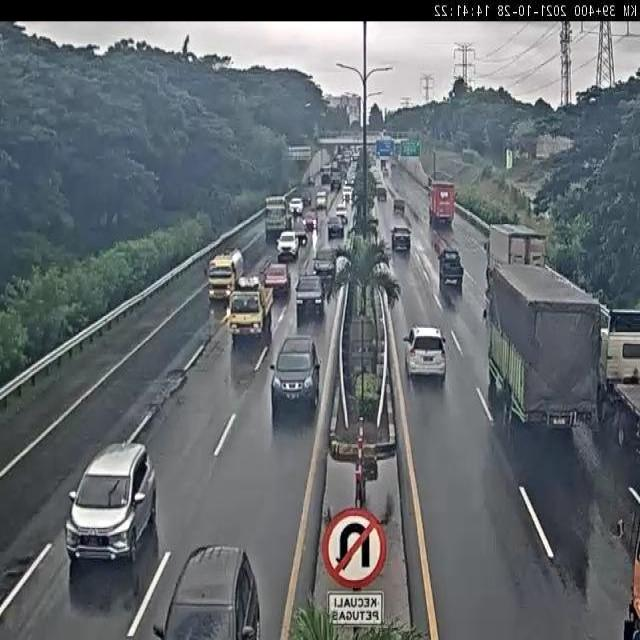Car: (66, 441, 158, 564), (151, 543, 260, 640), (270, 334, 321, 425), (404, 325, 448, 385), (312, 247, 337, 284), (265, 263, 291, 293), (276, 231, 300, 261), (288, 197, 304, 217), (304, 211, 318, 231), (335, 202, 347, 224), (316, 190, 328, 209), (393, 196, 405, 214), (299, 187, 311, 204), (342, 185, 352, 203)
Truck: (486, 264, 602, 446), (596, 308, 640, 455), (481, 220, 545, 274), (228, 274, 275, 343), (208, 247, 245, 302), (294, 274, 324, 324), (428, 180, 456, 227), (438, 248, 464, 292), (264, 195, 288, 242), (391, 227, 411, 253), (327, 216, 343, 238), (319, 163, 332, 184)
